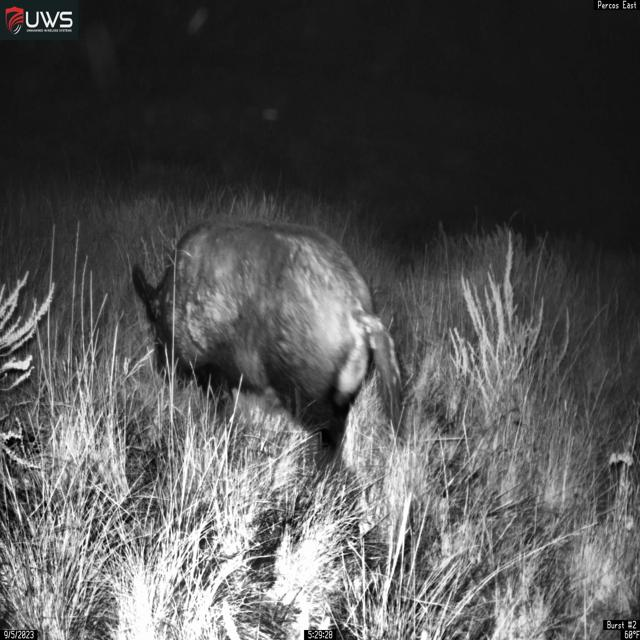pig: (130, 216, 407, 493)
